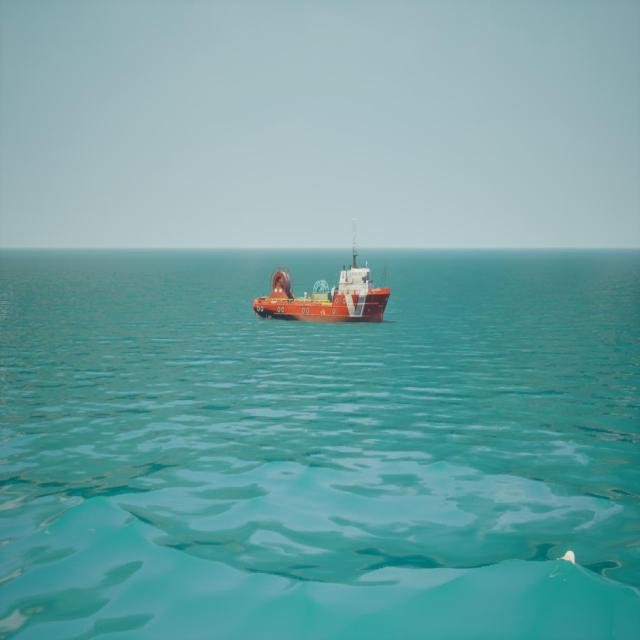tug boat: (256, 221, 392, 326)
